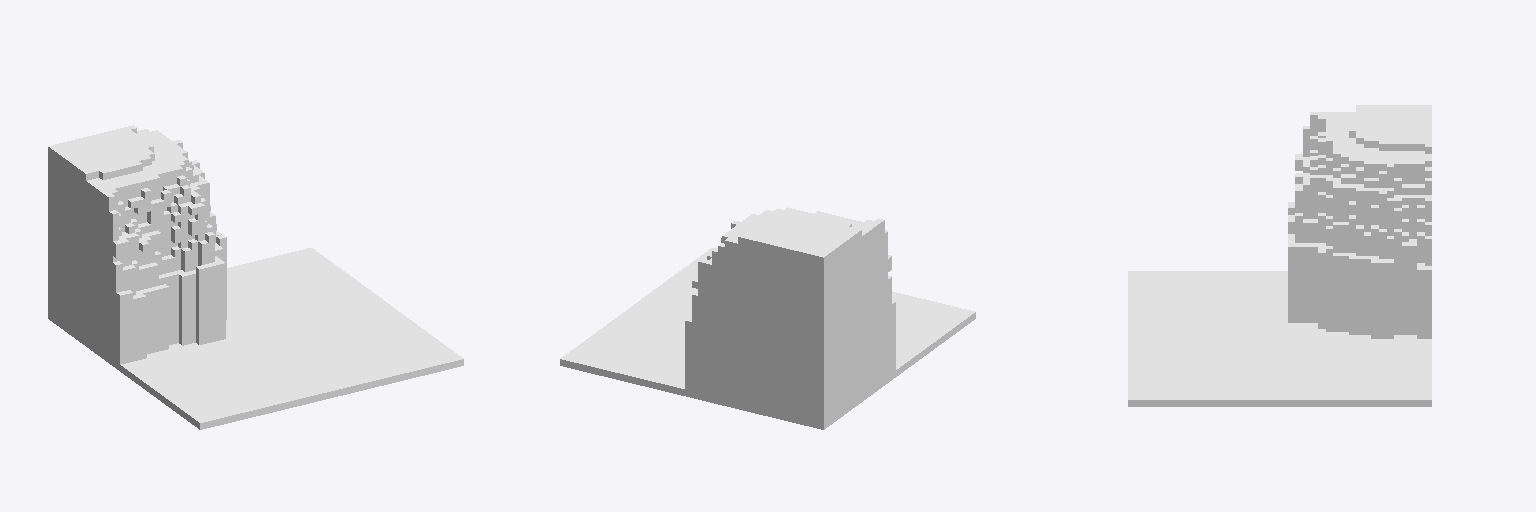
Rendered from tile-quartermountain-3.obj.
The picture shows the model from 3 angles: view 1: azimuth 30°, elevation 25°; view 2: azimuth 150°, elevation 25°; view 3: azimuth 270°, elevation 25°; orthographic projection.
Parts seen in each view (by area): view 1: tile-quartermountain-3; view 2: tile-quartermountain-3; view 3: tile-quartermountain-3.
Part boxes in pixels (left/top/right/bottom): tile-quartermountain-3: left=48, top=125, right=463, bottom=429; tile-quartermountain-3: left=560, top=207, right=975, bottom=429; tile-quartermountain-3: left=1128, top=105, right=1431, bottom=406.
Size of the model in its own units: 40 by 25 by 40.